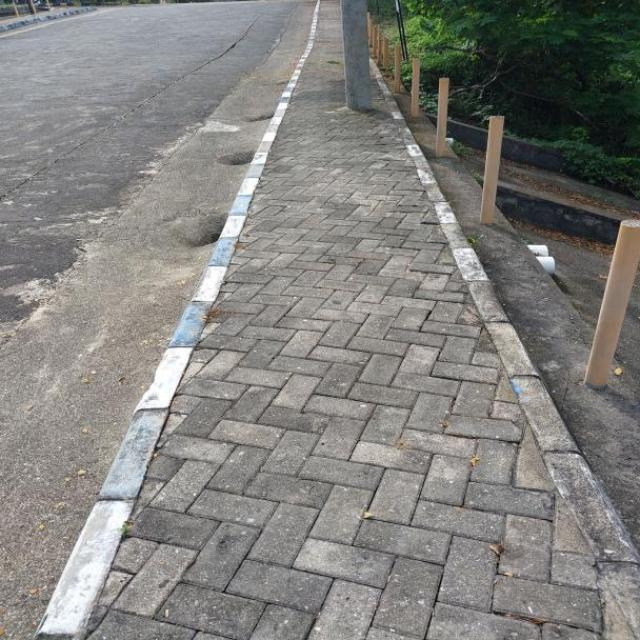barrier ahead at: (588, 216, 640, 394), (473, 108, 514, 217), (430, 72, 454, 156)
